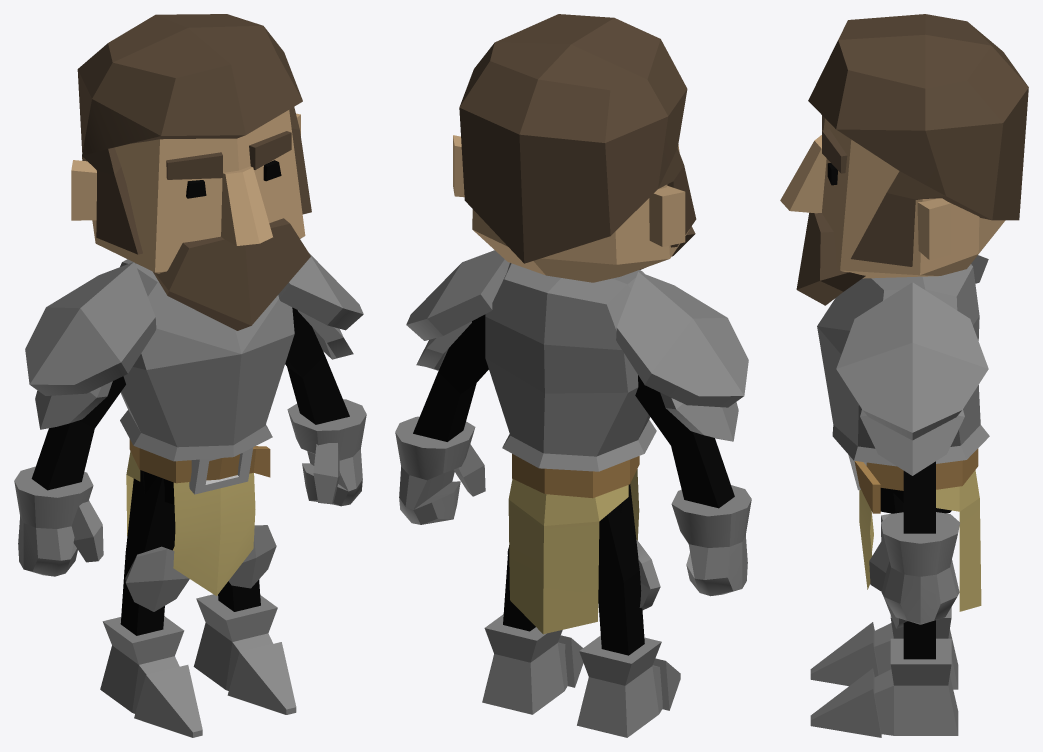
File: chevalier.glb
3 renders of one model, left to right at view 1: azimuth 30°, elevation 25°; view 2: azimuth 150°, elevation 25°; view 3: azimuth 270°, elevation 25°, orthographic.
Visible parts, largest first — view 1: Soldier_71; view 2: Soldier_71; view 3: Soldier_71.
Boxes of the visible parts, x1,y1,x2,y2 form: Soldier_71: [14, 14, 366, 737]; Soldier_71: [395, 14, 751, 737]; Soldier_71: [780, 14, 1028, 737].
Size of the model in its own units: 0.9251 by 1.69 by 0.5718.
7 materials, 1 textured.
